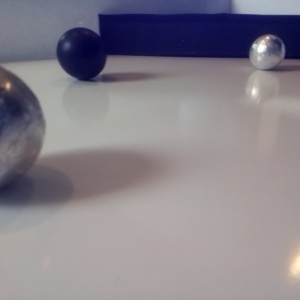zone: (99, 13, 300, 56)
